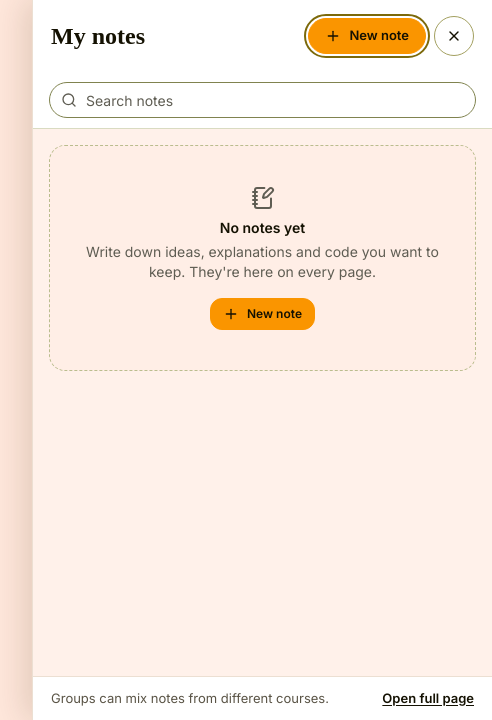
Scenario: My Notes panel › shows Save failed on a network error, then recovers by itself without making a duplicate
Later steps or results of the test are not shown.
Check: the text "No notes yet" is shown, box [220,219,305,236]
Click the button "New note" in the row of "My notes".
click(367, 36)  # box [308,18,426,54]
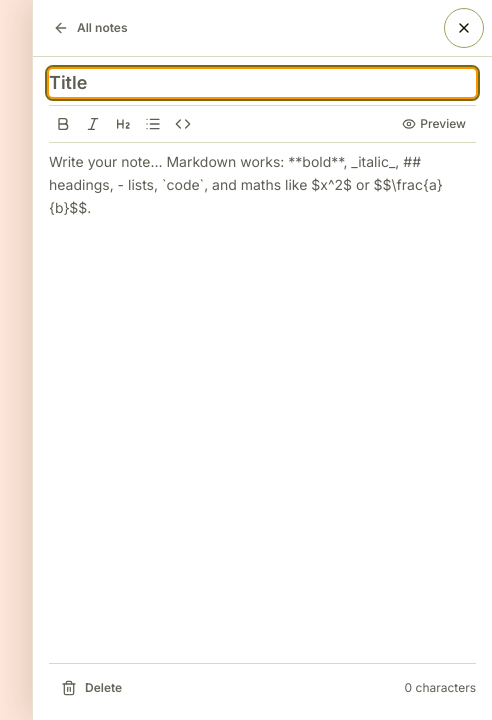
Replace the text in the text box labelled "note" with "offline thought" at (262, 403), box [49,151,476,655]
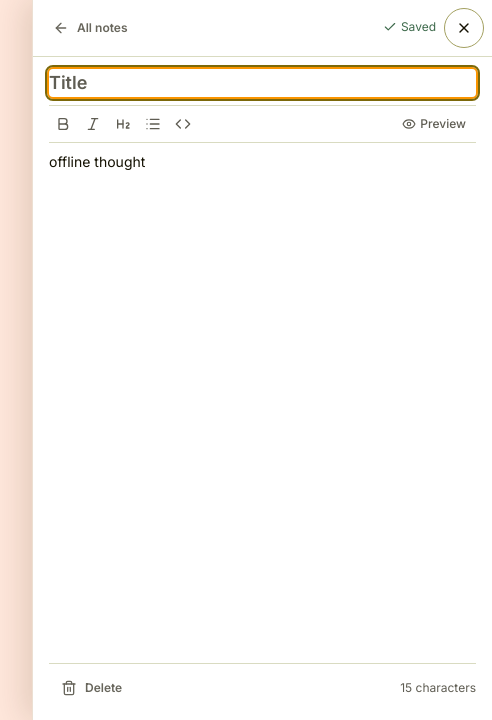
Check: the message reads "Saved", box [401,19,436,34]
